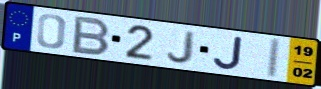0: (35, 13, 69, 50)
2: (125, 24, 156, 62)
B: (70, 15, 113, 57)
I: (264, 37, 284, 80)
J: (165, 29, 198, 65), (212, 35, 245, 71)
